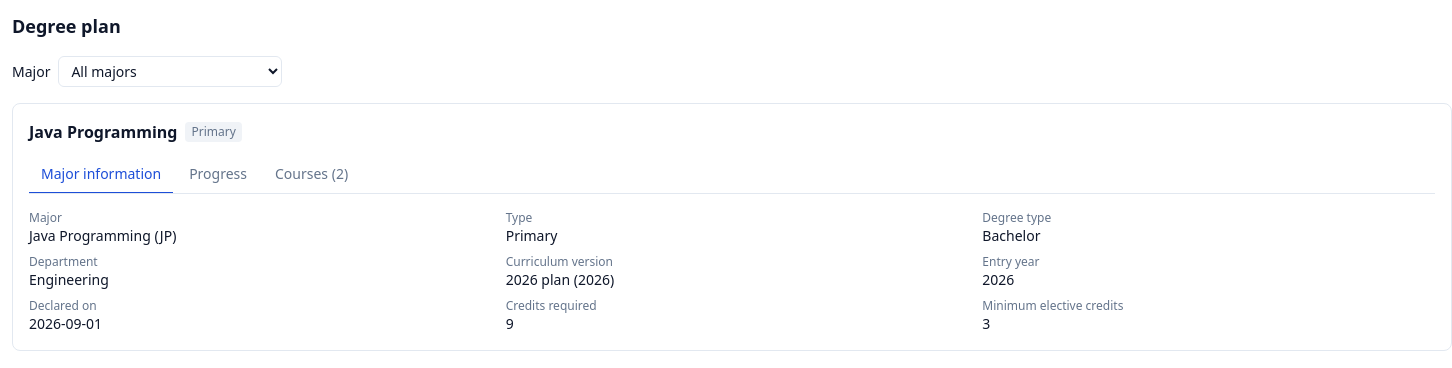
Test: Degree plan (student) › a single-major student still sees the selector; each card's tabs switch on their own
Check: the dropdown labelled "Major" is shown, box [58,56,282,87]
Check: the text "Bachelor" is shown, box [982,226,1040,245]
Click the tab "Progress".
click(218, 175)  # box [177,156,259,194]
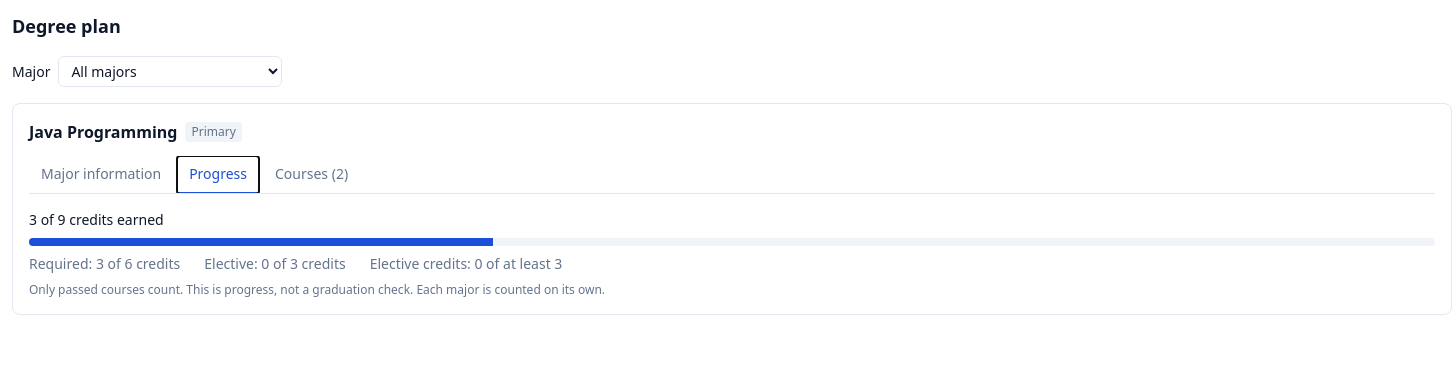
Click the tab "Courses (2)".
click(312, 175)  # box [263,156,360,194]
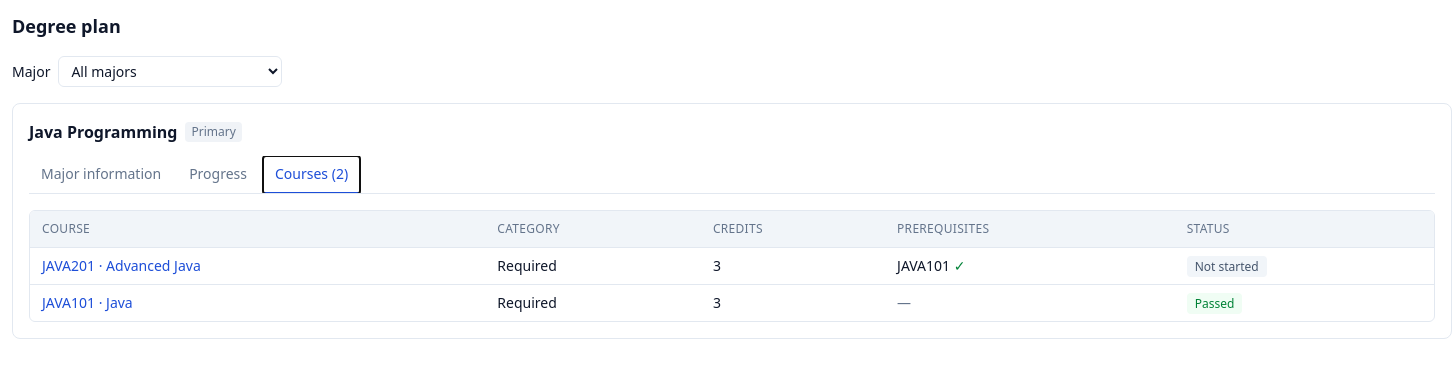
Check: the text "Passed" is shown, box [1187,293,1242,314]
Check: the text "Not started" is shown, box [1187,256,1267,277]
Check: the text "JAVA101 ✓" is shown, box [897,256,966,275]
